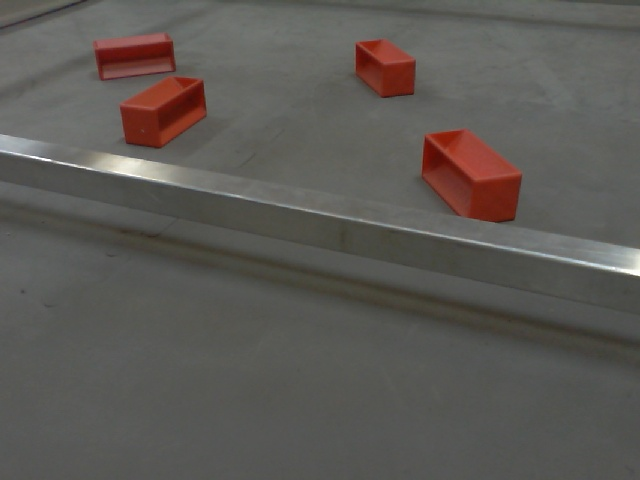RedSample: (422, 128, 521, 225), (119, 76, 208, 148), (89, 29, 179, 79), (353, 36, 419, 99)
